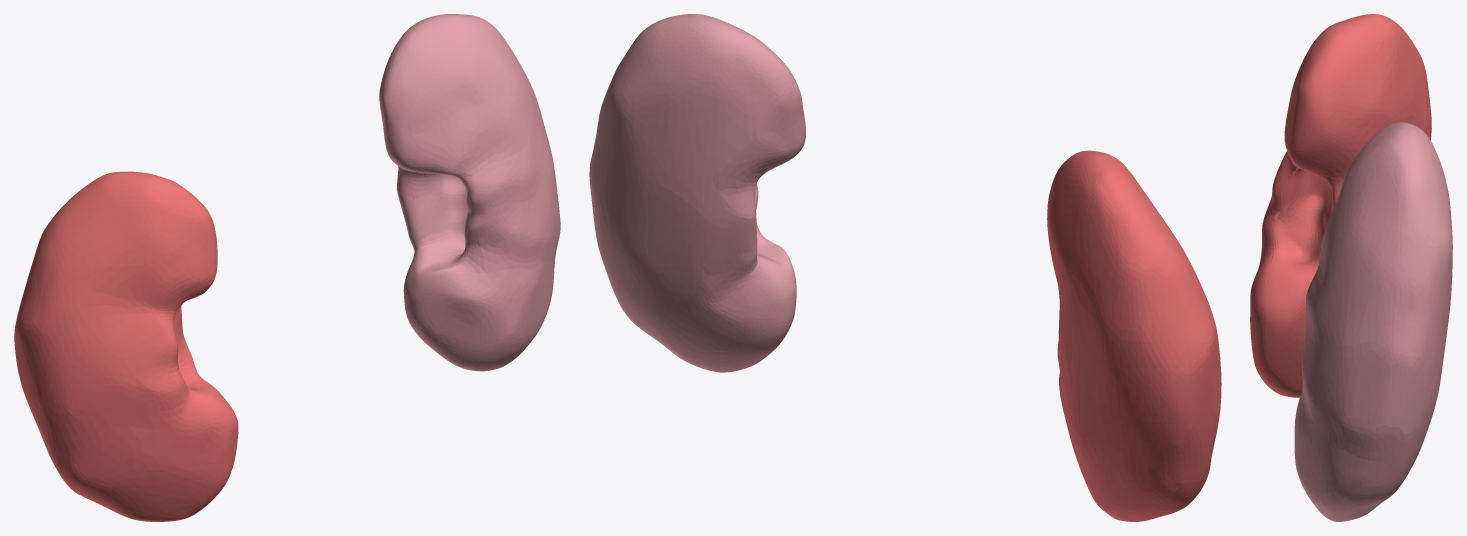
Rendered from reni.glb.
3 renders of one model, left to right at view 1: azimuth 30°, elevation 25°; view 2: azimuth 150°, elevation 25°; view 3: azimuth 270°, elevation 25°, orthographic. The views are drawn at different scales.
Parts seen in each view (by area): view 1: right kidney, left kidney; view 2: left kidney, right kidney; view 3: left kidney, right kidney.
Boxes of the visible parts, <box> form: right kidney: <box>14,171,238,521</box>; left kidney: <box>379,14,560,371</box>; left kidney: <box>589,14,805,372</box>; right kidney: <box>1047,150,1221,521</box>; left kidney: <box>1294,122,1452,521</box>; right kidney: <box>1250,14,1431,397</box>.
Size of the model in its own units: 178 by 123 by 51.83.
